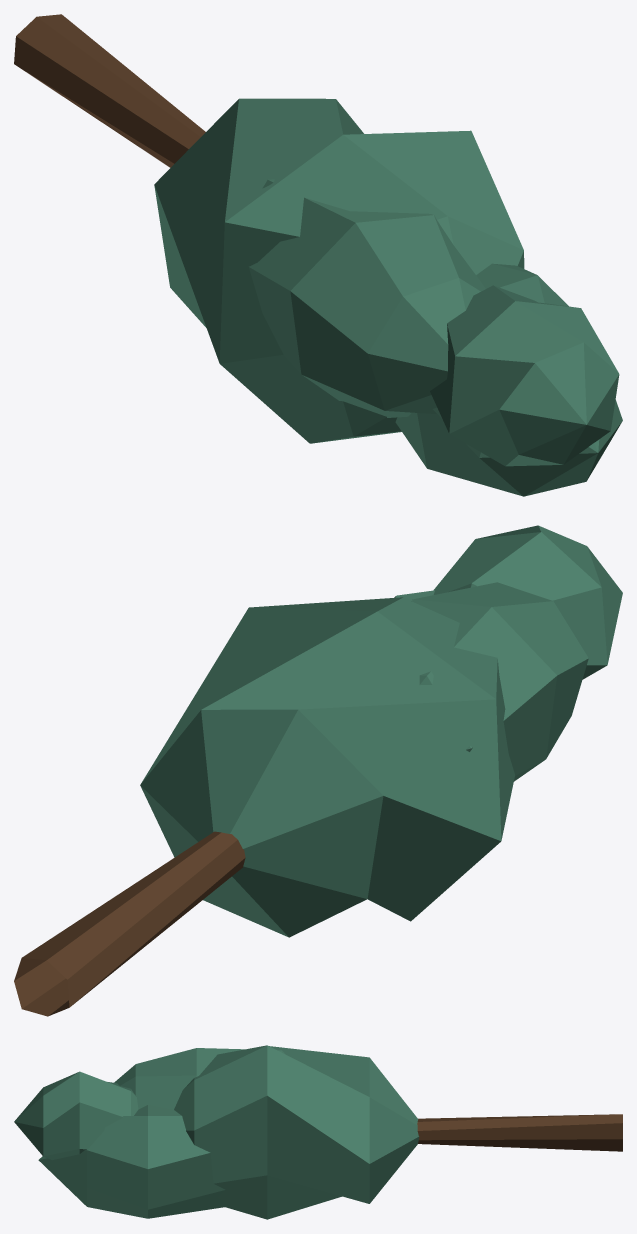
The model's file is growth_0.glb.
3 renders of one model, top to bottom at view 1: azimuth 30°, elevation 25°; view 2: azimuth 150°, elevation 25°; view 3: azimuth 270°, elevation 25°, orthographic. The views are drawn at different scales.
Visible parts, largest first — view 1: tree_11_growth_0; view 2: tree_11_growth_0; view 3: tree_11_growth_0.
Part boxes in pixels (x1,y1,x2,y2): tree_11_growth_0: (14,14,622,496); tree_11_growth_0: (14,525,622,1016); tree_11_growth_0: (14,1045,622,1219).
Size of the model in its own units: 4.34 by 4.59 by 15.04.
